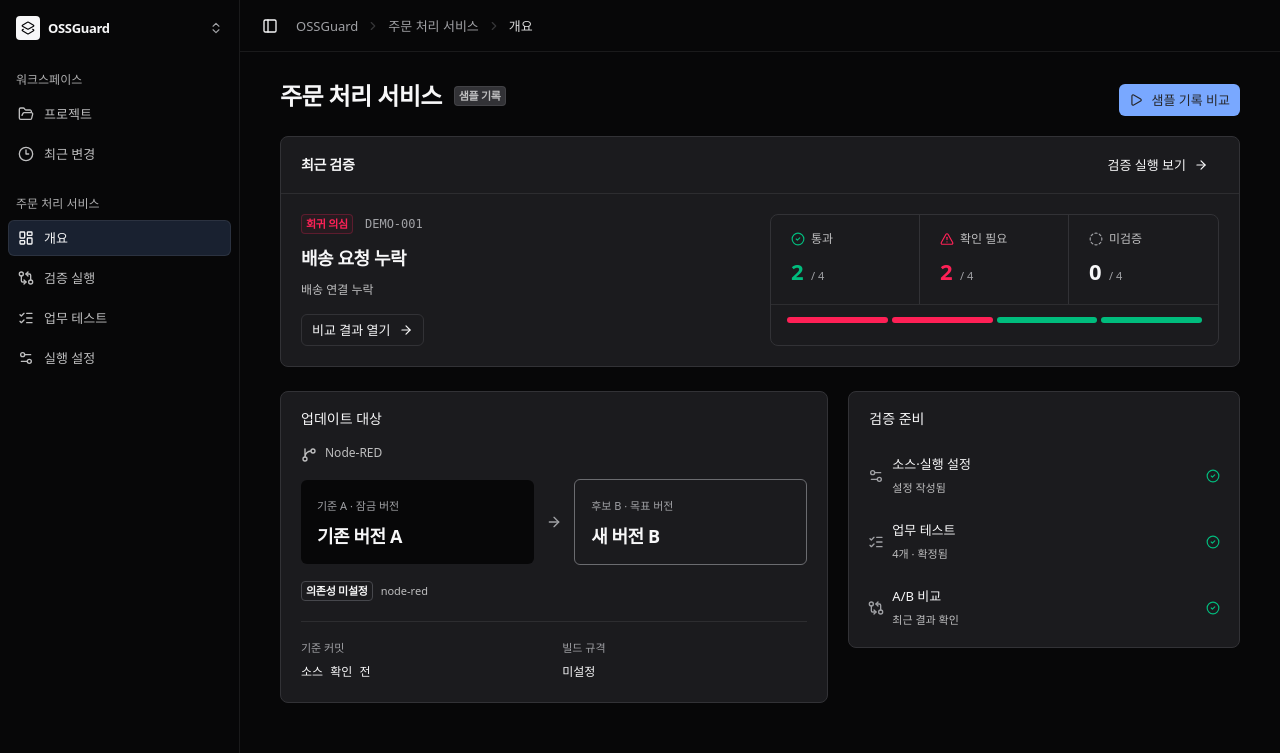
Test: uses sidebar query navigation without resetting pending inputs or confirmation
This screenshot has width=1280, height=753.
Click the link "업무 테스트": click(63, 318) [18,309,107,327]
(page scrolled)
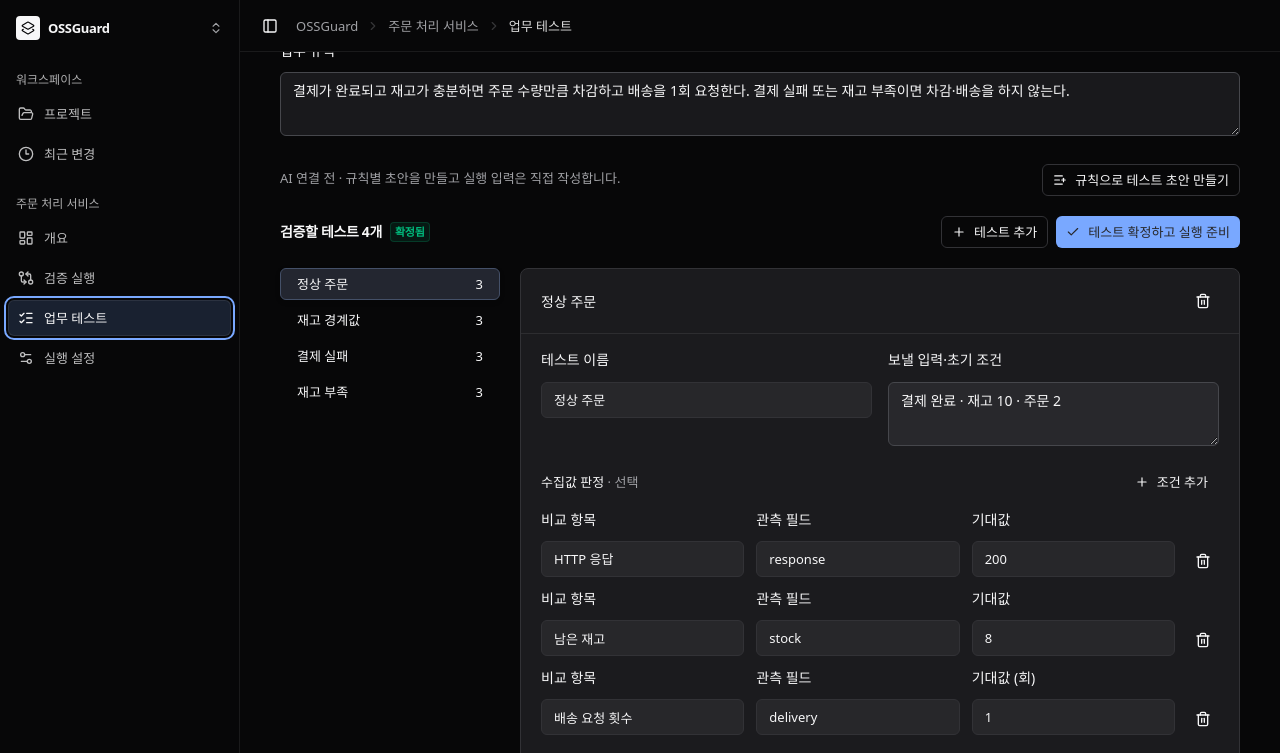
Check: the link "개요" does not have attribute aria-current, box [18,229,68,247]
Replace the text in the field named "T01 · 정상 주문 / 기대 배송 요청 횟수" with "0": (1073, 717) [972,699,1175,735]
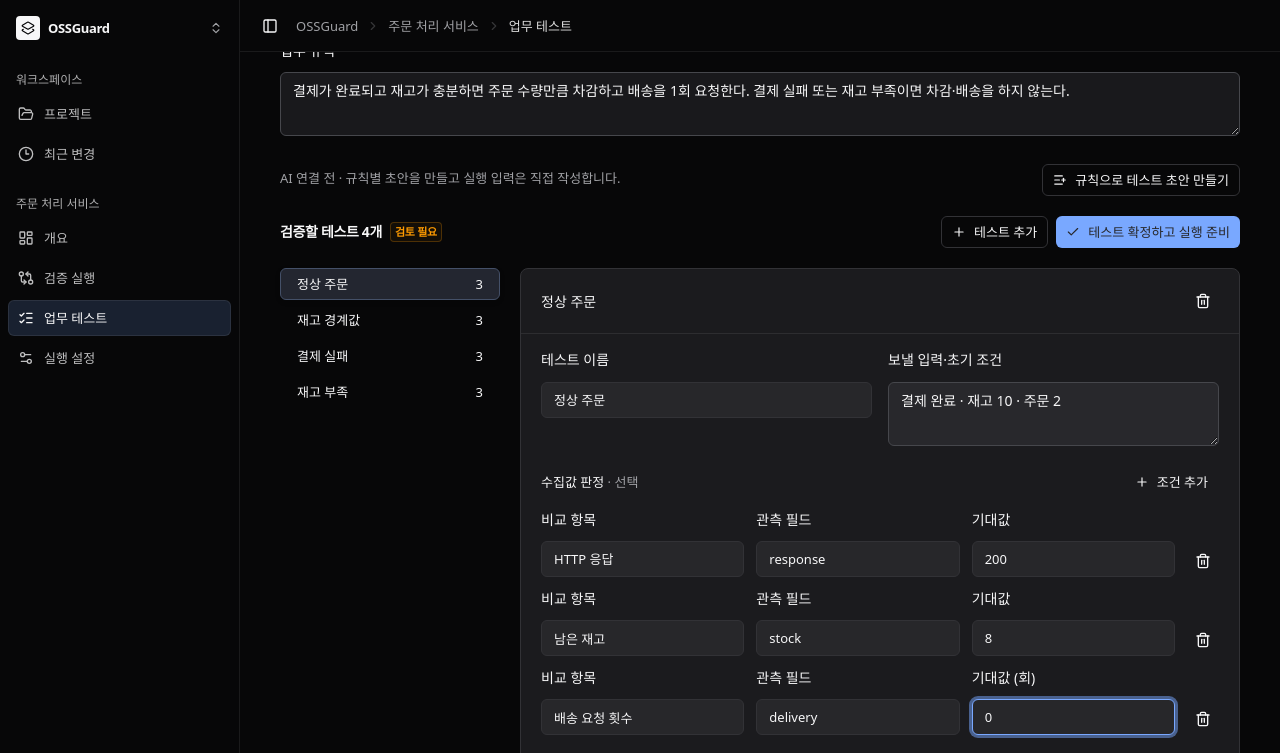
Click the link "실행 설정": click(57, 358) [18,349,95,367]
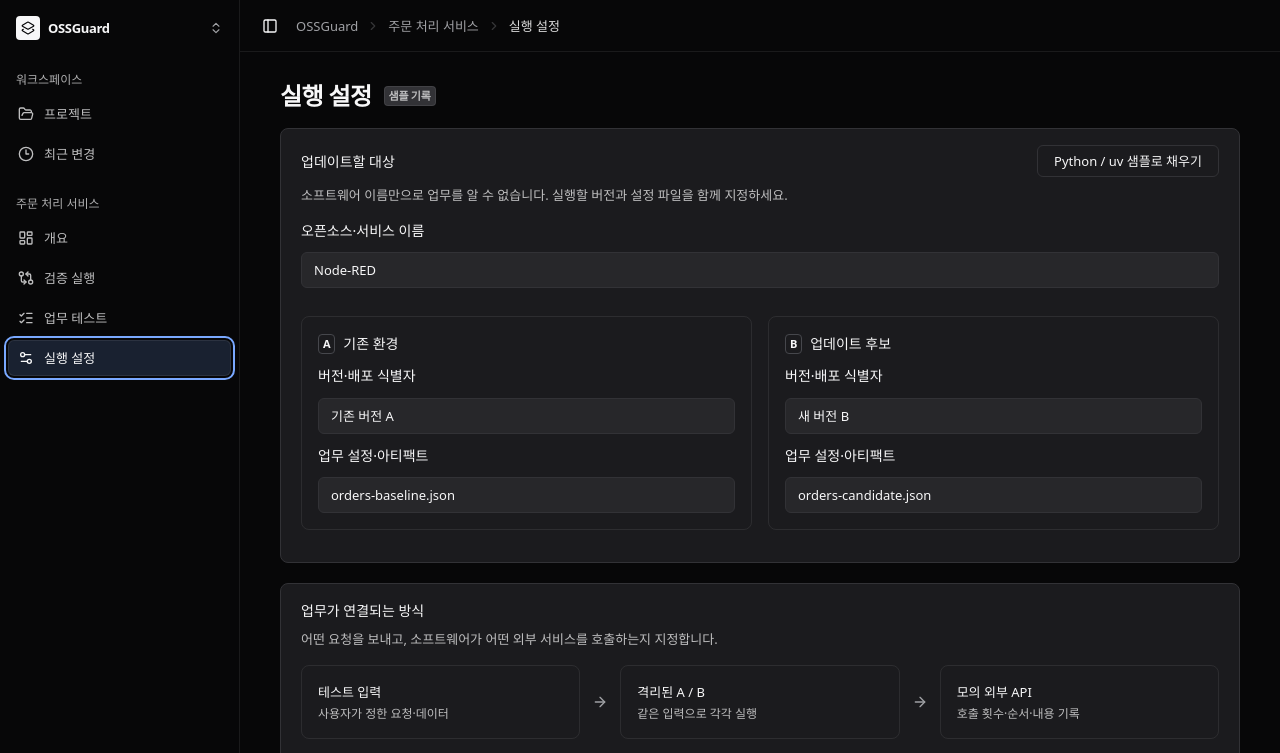
Click the link "업무 테스트": click(63, 318) [18,309,107,327]
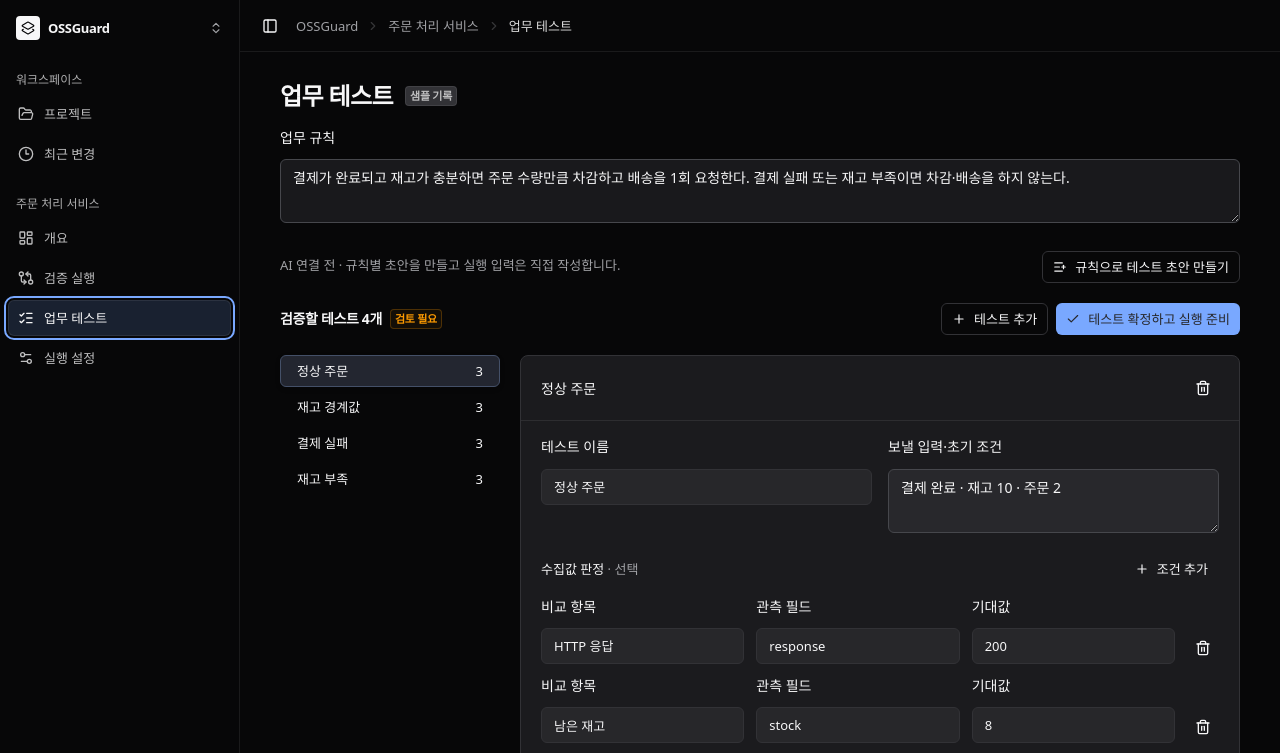
Check: the text "검토 필요" is shown, box [390,309,442,329]
